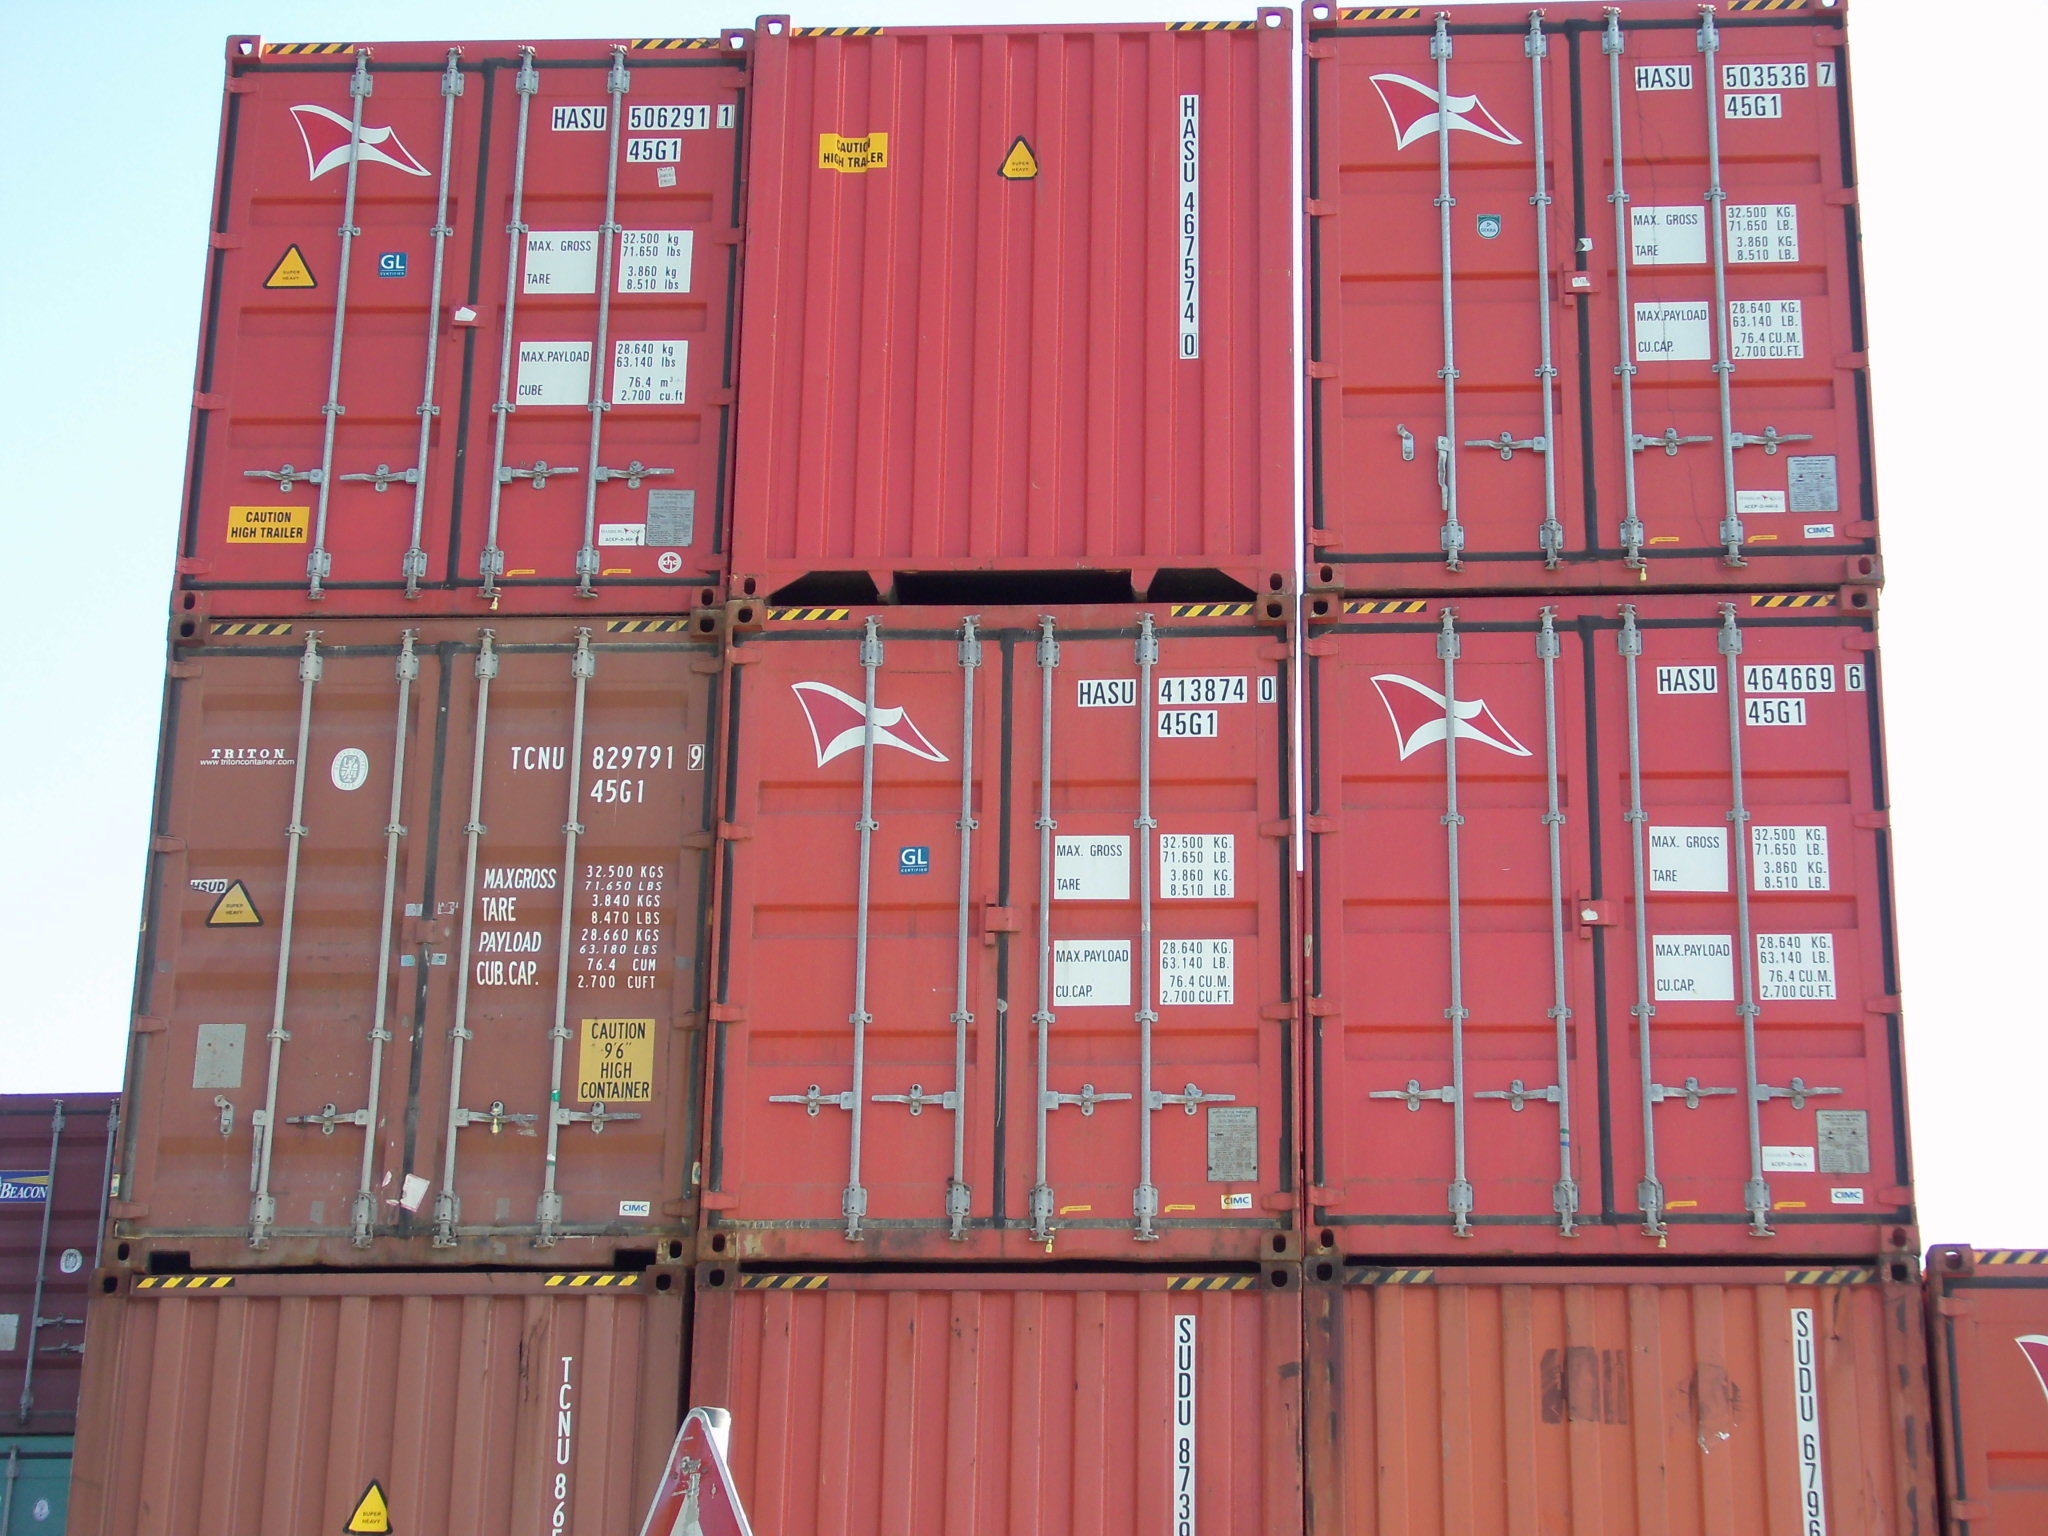container_door: (127, 626, 701, 1263), (1308, 603, 1882, 1241), (718, 607, 1292, 1242), (1309, 6, 1875, 582), (219, 34, 710, 591)
container_no_door: (756, 8, 1290, 600)
